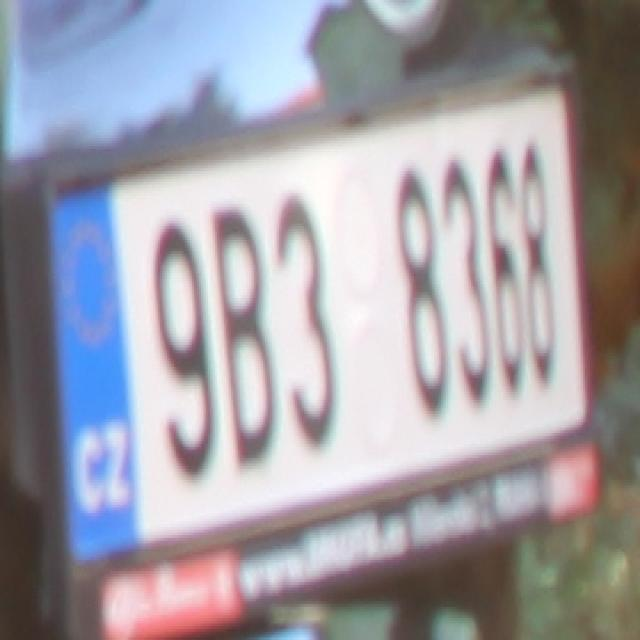3: (274, 185, 339, 455), (441, 146, 491, 411)
6: (487, 146, 525, 392)
8: (393, 154, 446, 414), (522, 135, 570, 389)
9: (148, 221, 210, 477)
B: (210, 196, 274, 474)
